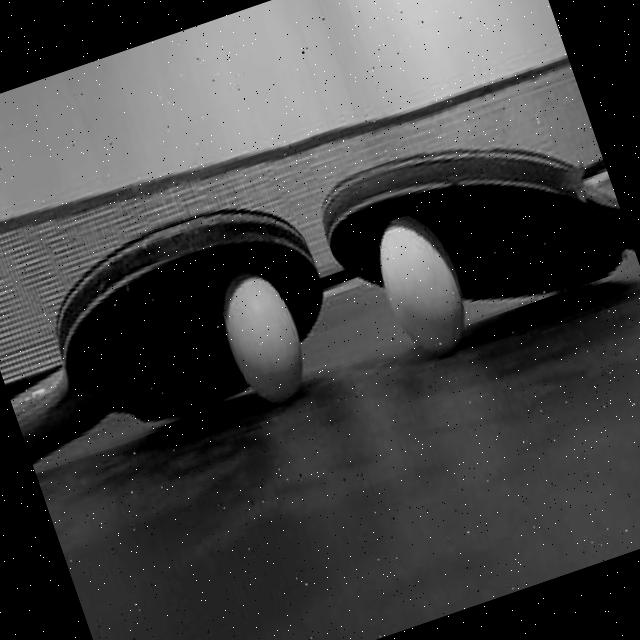ping-pong-ball: (360, 202, 480, 368), (203, 256, 320, 419)
